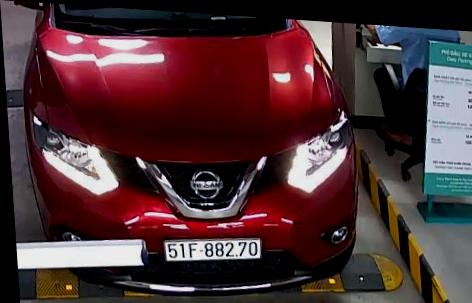License_Plate: (158, 233, 267, 267)
